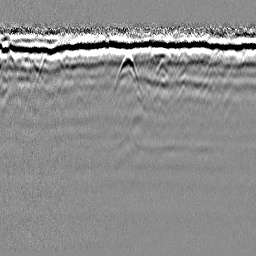cavity: (113, 52, 141, 89)
